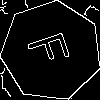F: (26, 26, 79, 70)
